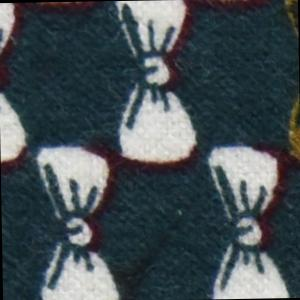Oil Stain: (284, 85, 300, 166), (278, 1, 299, 37)
Wrinkle: (109, 183, 211, 300)
